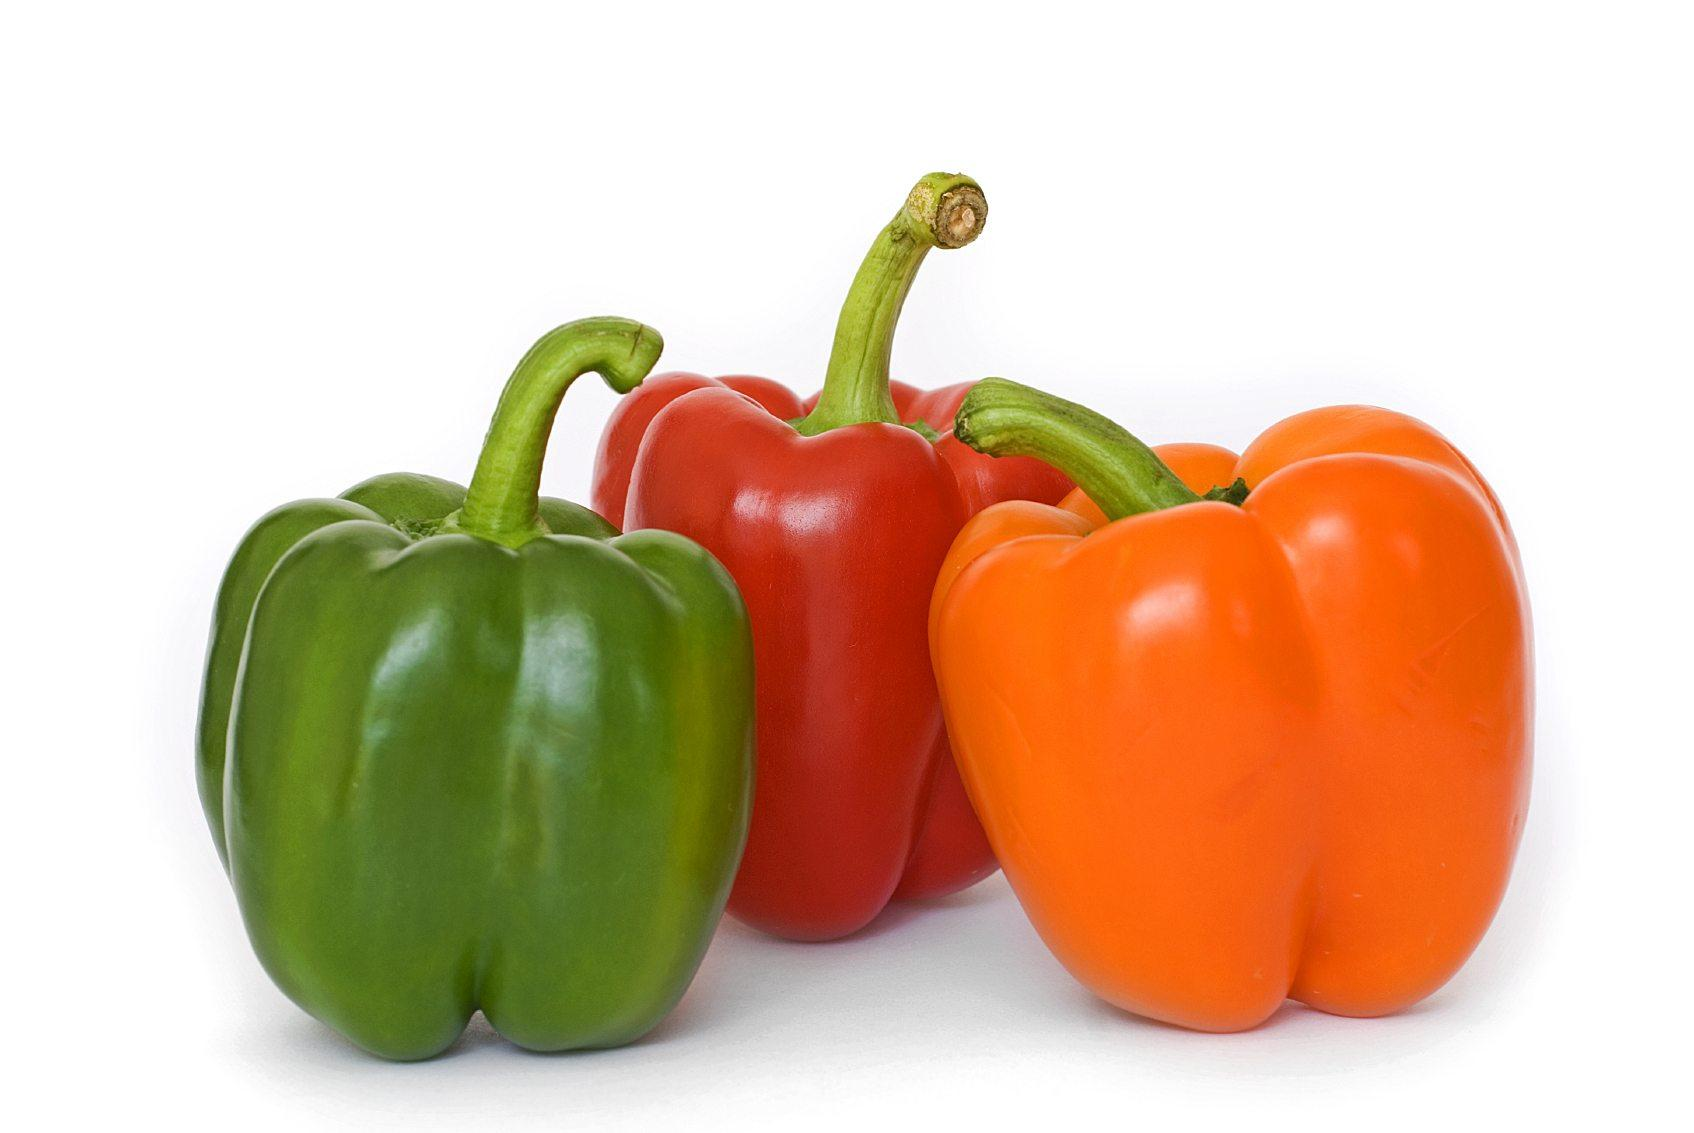capsicum: (193, 312, 759, 1062), (925, 373, 1536, 1034), (598, 168, 1047, 943)
